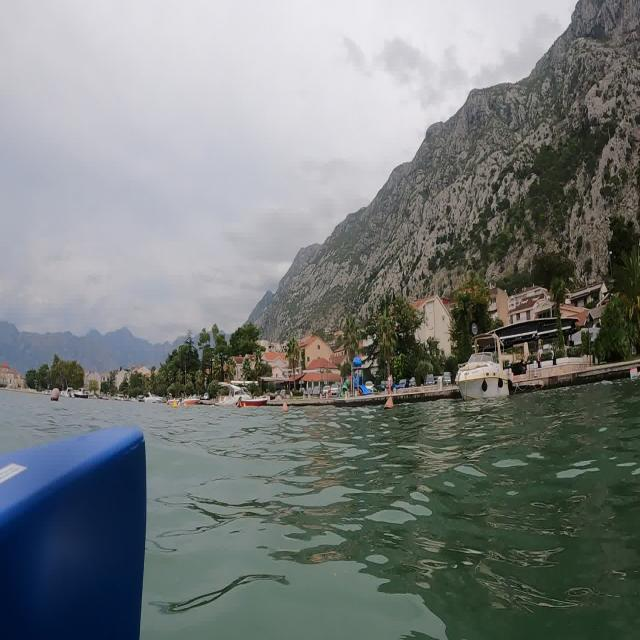boat: (454, 331, 512, 404)
buoy: (48, 383, 63, 405), (384, 396, 396, 414), (281, 401, 291, 414), (172, 398, 178, 412)
